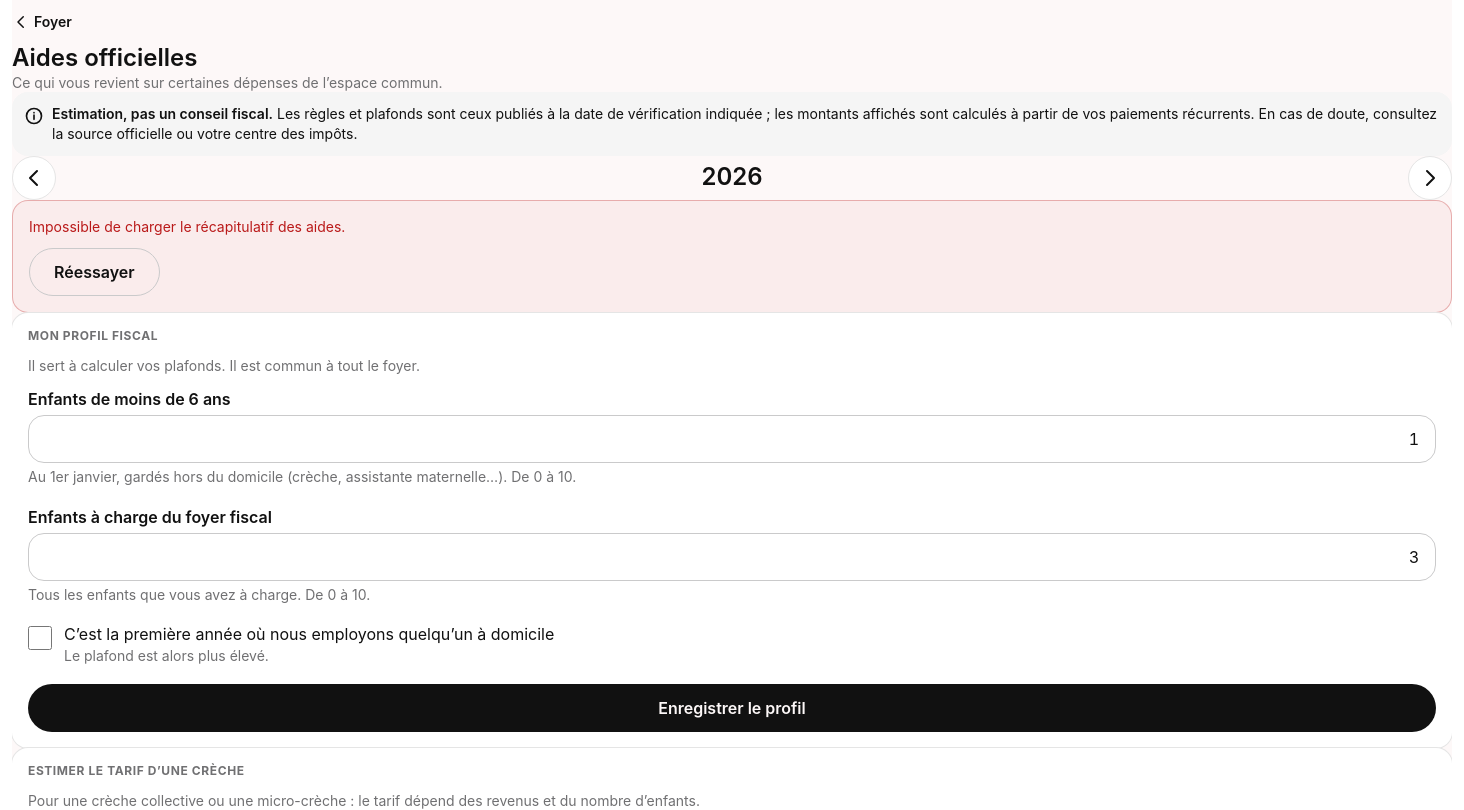
Test case: AidesPage › yearly summary › offers a retry on error
Expected: the message shows "Impossible de charger le récapitulatif des aides", [29,218,345,235]
Click the button "Réessayer".
click(94, 272)  # box [29,248,160,296]
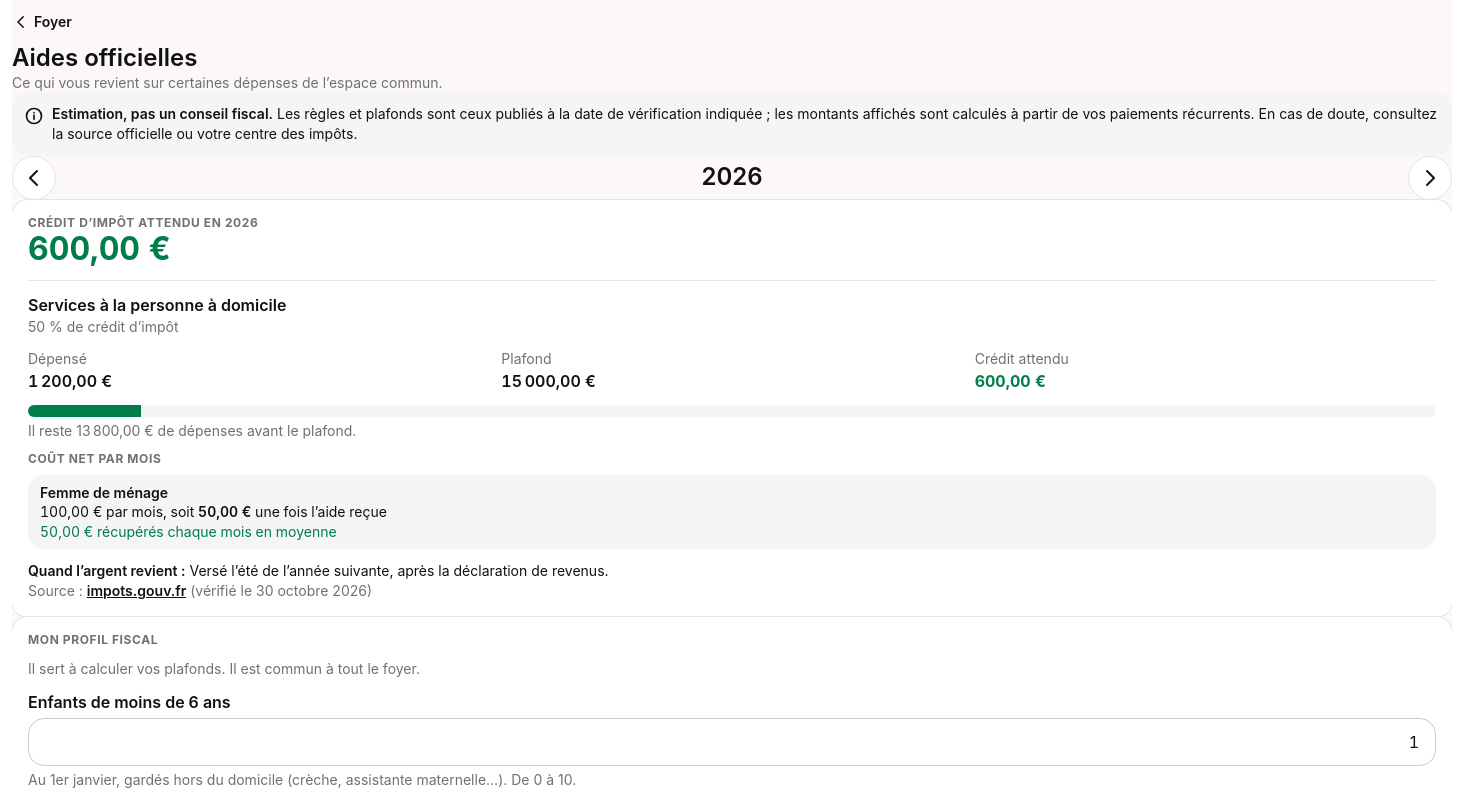
Now the element named "Aides 2026" is shown, box [12,200,1452,616]
